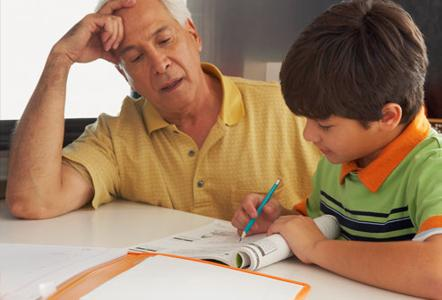person: (234, 2, 441, 299)
